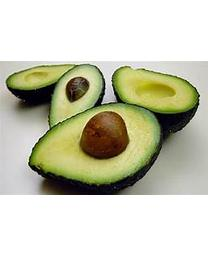avocado: (30, 102, 163, 192), (111, 66, 200, 137), (48, 64, 106, 129), (5, 63, 78, 101)
